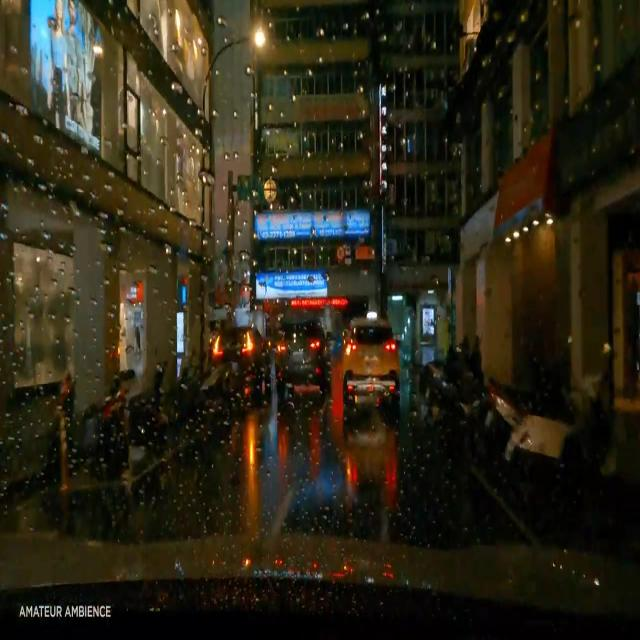Car: (340, 317, 401, 411), (276, 319, 329, 393), (213, 326, 268, 393)
